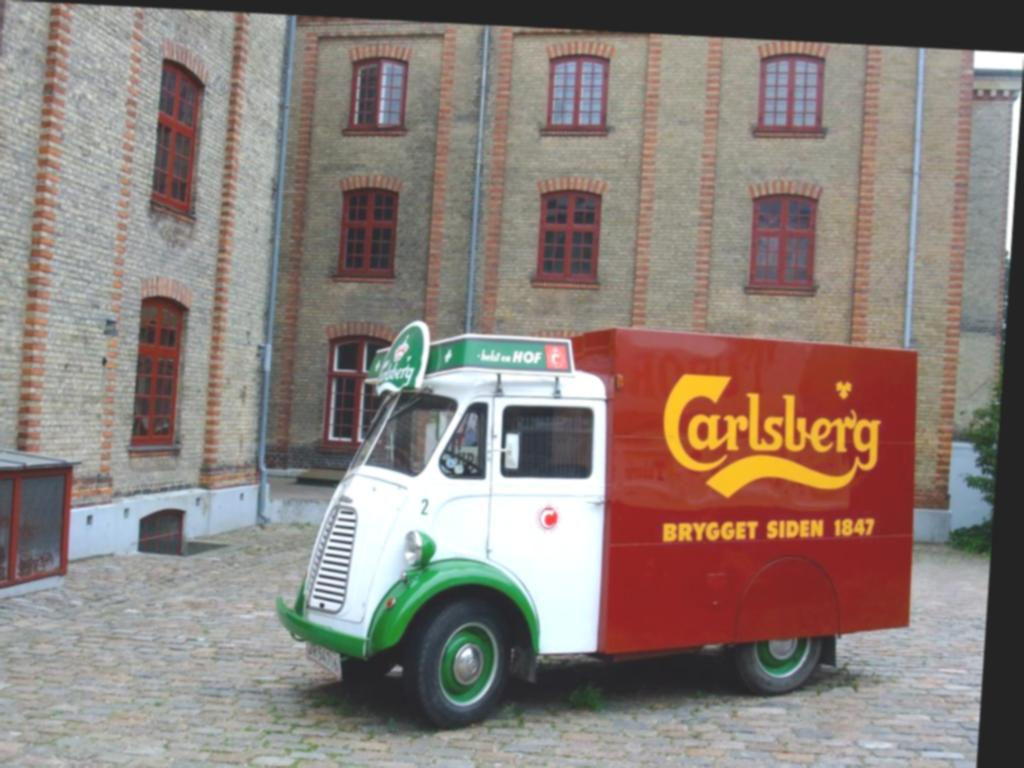License_Plate: (300, 642, 343, 677)
